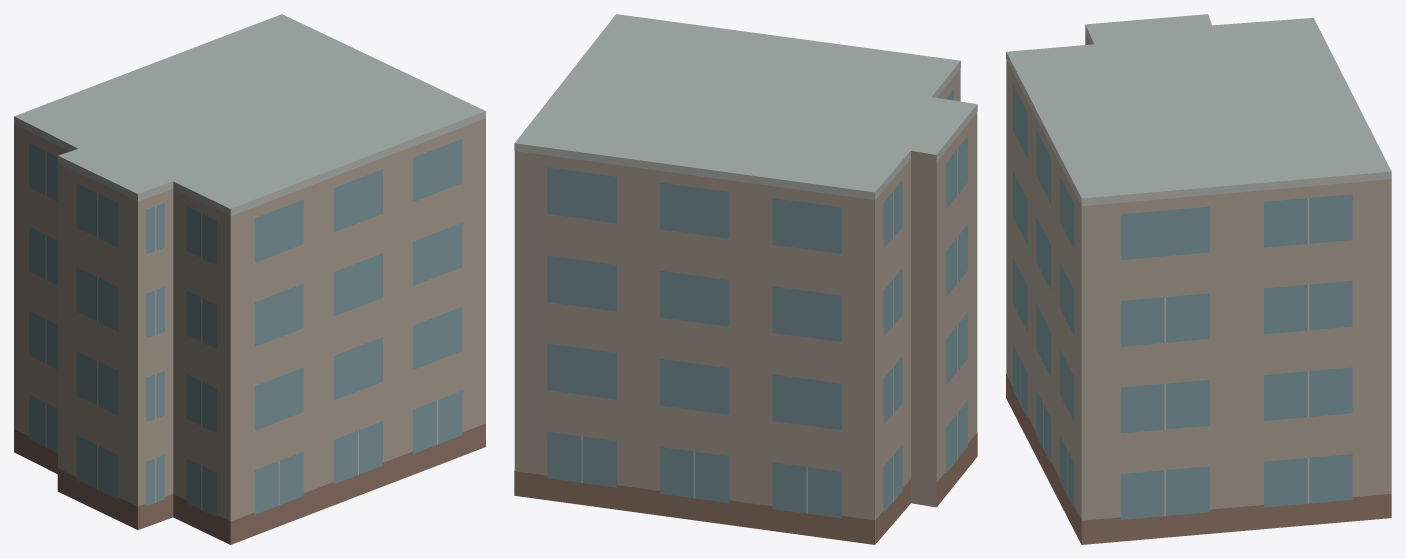
The model's file is survey-upis-32763218.glb.
The picture shows the model from 3 angles, left to right: view 1: azimuth 30°, elevation 25°; view 2: azimuth 150°, elevation 25°; view 3: azimuth 270°, elevation 25°; orthographic projection. The views are drawn at different scales.
Parts seen in each view (by area): view 1: survey-upis-32763218.tmp; view 2: survey-upis-32763218.tmp; view 3: survey-upis-32763218.tmp.
Boxes of the visible parts, x1,y1,x2,y2 form: survey-upis-32763218.tmp: [14, 14, 485, 544]; survey-upis-32763218.tmp: [514, 14, 977, 544]; survey-upis-32763218.tmp: [1006, 14, 1391, 544].
Size of the model in its own units: 12.71 by 11.12 by 11.23.
